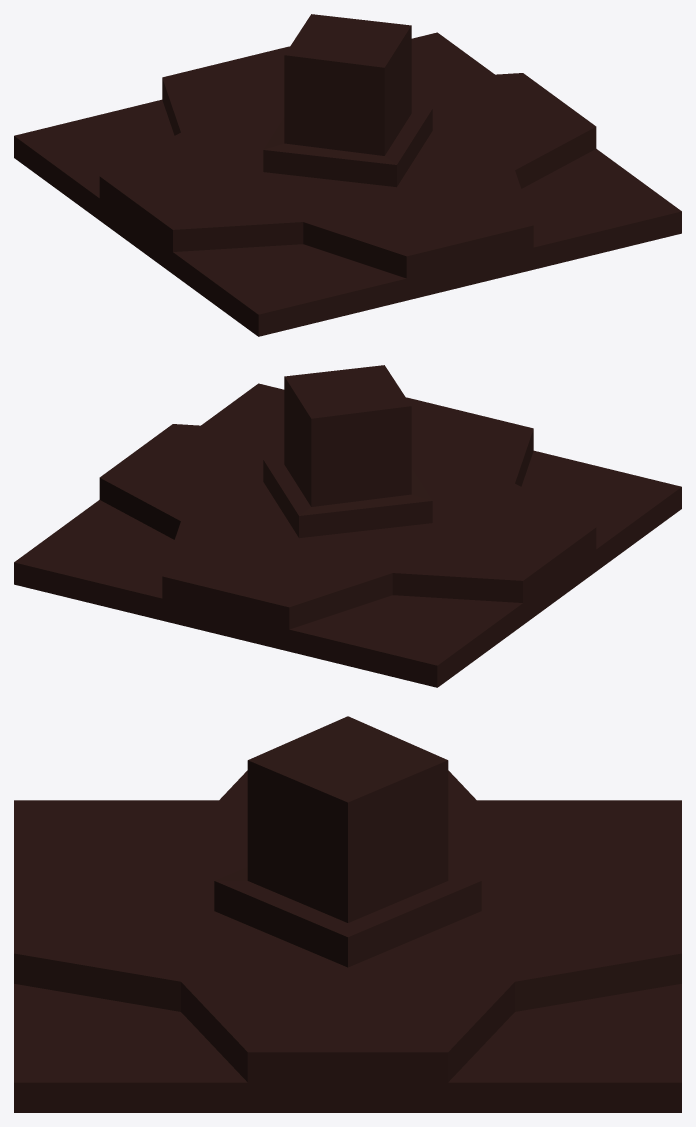
Rendered from Square.glb.
3 renders of one model, top to bottom at view 1: azimuth 30°, elevation 25°; view 2: azimuth 150°, elevation 25°; view 3: azimuth 270°, elevation 25°, orthographic. The views are drawn at different scales.
Parts seen in each view (by area): view 1: 4Square; view 2: 4Square; view 3: 4Square.
Boxes of the visible parts, left/top/right/bottom form: 4Square: left=14, top=14, right=681, bottom=336; 4Square: left=14, top=365, right=681, bottom=687; 4Square: left=14, top=716, right=681, bottom=1112.
Size of the model in its own units: 2 by 0.7043 by 2.
